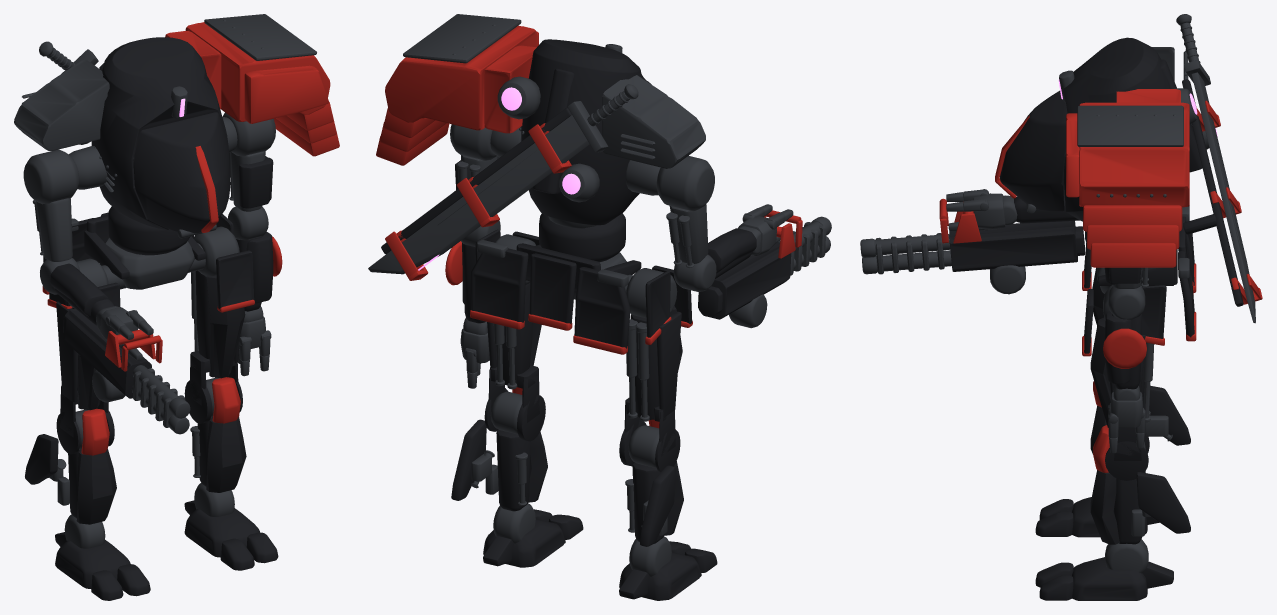
The model's file is Titan_L2.fbx.
3 views of the same model, side by side, from view 1: azimuth 30°, elevation 25°; view 2: azimuth 150°, elevation 25°; view 3: azimuth 270°, elevation 25° (orthographic). The views are drawn at different scales.
Parts seen in each view (by area): view 1: L2_Torso_Upper, L2_Hatch, L2_Pauldron_L, L2_Shoulder_Cap_R, L2_Pauldron_Trim_L, L2_Pelvis, L2_Shotgun_Body, L2_Shin_Plate_R, L2_Shin_Plate_L, L2_UpperArm_Hub_R, L2_Thigh_Plate_L, L2_Waist (+40 smaller); view 2: L2_Skirt_Back, L2_Pauldron_L, L2_Torso_Upper, L2_Sword_Blade, L2_Shoulder_Cap_R, L2_Shotgun_Body, L2_Pauldron_Trim_L, L2_Waist, L2_UpperArm_Hub_R, L2_Pauldron_Lames_L, L2_Rack_Clamps, L2_Thigh_Clevis_L (+49 smaller); view 3: L2_Pauldron_L, L2_Pauldron_Lames_L, L2_Hatch, L2_Shotgun_Body, L2_Torso_Upper, L2_Pauldron_Trim_L, L2_Foot_L, L2_Sword_Blade, L2_Shotgun_Barrels, L2_Rack, L2_Calf_Blade_L, L2_Thigh_Clevis_L (+27 smaller).
Part boxes in pixels (bbox=[...]): L2_Torso_Upper: bbox=[91, 37, 227, 229]; L2_Hatch: bbox=[133, 112, 230, 233]; L2_Pauldron_L: bbox=[165, 22, 330, 123]; L2_Shoulder_Cap_R: bbox=[14, 60, 109, 150]; L2_Pauldron_Trim_L: bbox=[204, 14, 316, 60]; L2_Pelvis: bbox=[102, 238, 205, 289]; L2_Shotgun_Body: bbox=[63, 308, 151, 398]; L2_Shin_Plate_R: bbox=[76, 449, 116, 524]; L2_Shin_Plate_L: bbox=[206, 417, 246, 492]; L2_UpperArm_Hub_R: bbox=[23, 149, 78, 204]; L2_Thigh_Plate_L: bbox=[206, 275, 245, 378]; L2_Waist: bbox=[108, 206, 190, 255]; L2_Skirt_Back: bbox=[471, 248, 630, 348]; L2_Pauldron_L: bbox=[385, 25, 538, 133]; L2_Torso_Upper: bbox=[521, 39, 648, 225]; L2_Sword_Blade: bbox=[368, 115, 589, 274]; L2_Shoulder_Cap_R: bbox=[602, 75, 705, 168]; L2_Shotgun_Body: bbox=[698, 242, 791, 319]; L2_Pauldron_Trim_L: bbox=[403, 14, 521, 63]; L2_Waist: bbox=[539, 213, 625, 262]; L2_UpperArm_Hub_R: bbox=[656, 155, 714, 211]; L2_Pauldron_Lames_L: bbox=[376, 108, 449, 165]; L2_Rack_Clamps: bbox=[385, 123, 571, 280]; L2_Thigh_Clevis_L: bbox=[484, 365, 545, 441]; L2_Pauldron_L: bbox=[1066, 89, 1189, 207]; L2_Pauldron_Lames_L: bbox=[1083, 205, 1182, 267]; L2_Hatch: bbox=[1000, 90, 1067, 211]; L2_Shotgun_Body: bbox=[949, 221, 1084, 271]; L2_Torso_Upper: bbox=[1064, 37, 1171, 221]; L2_Pauldron_Trim_L: bbox=[1077, 105, 1183, 146]; L2_Foot_L: bbox=[1072, 557, 1147, 600]; L2_Sword_Blade: bbox=[1191, 72, 1255, 323]; L2_Shotgun_Barrels: bbox=[860, 234, 951, 274]; L2_Rack: bbox=[1182, 79, 1243, 306]; L2_Calf_Blade_L: bbox=[1136, 472, 1190, 533]; L2_Thigh_Clevis_L: bbox=[1105, 428, 1149, 480].
Bounding box in the file's own units: 3.54 × 5.87 × 4.22.
